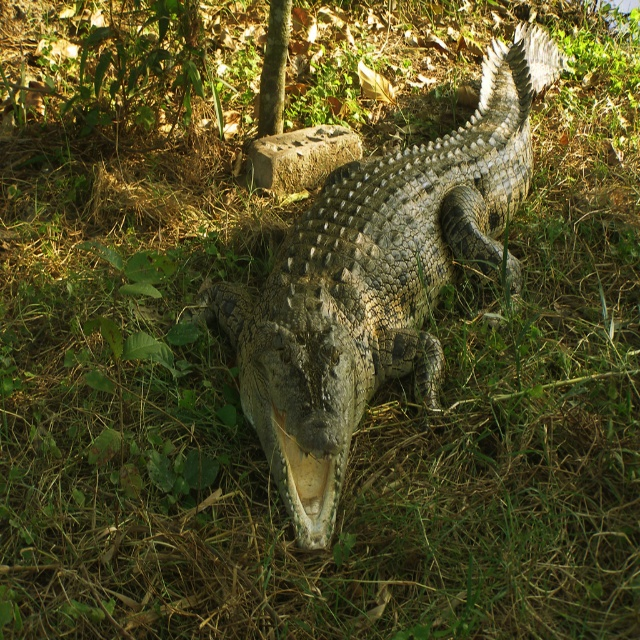Crocodile: (212, 22, 574, 548)
